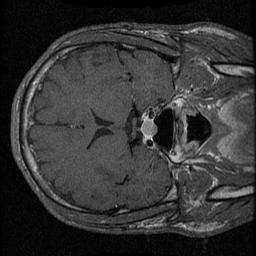pituitary tumour: (140, 112, 158, 141)
